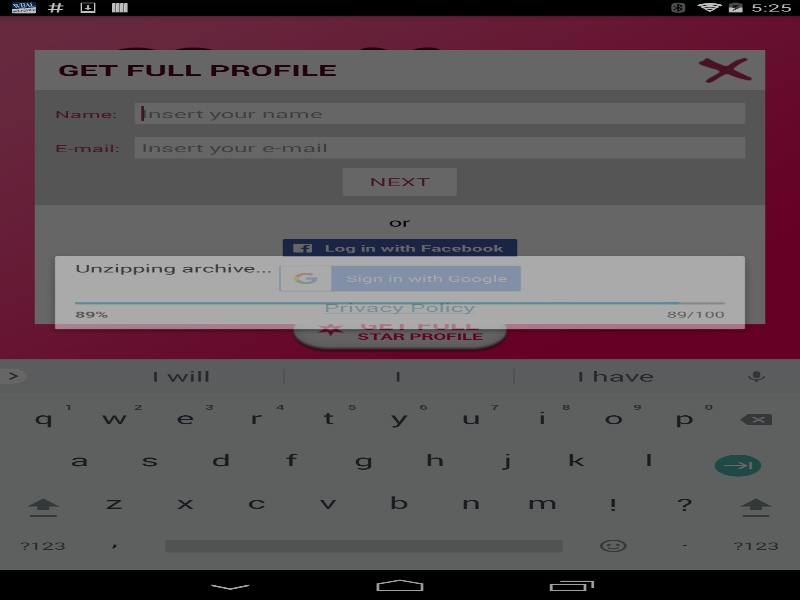Button: (274, 263, 525, 293), (282, 239, 517, 257), (342, 167, 456, 195), (698, 57, 752, 82)
Input: (134, 102, 745, 124), (134, 136, 745, 158)
